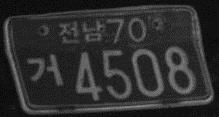0: (131, 46, 165, 98), (127, 16, 147, 44)
4: (73, 51, 103, 103)
5: (101, 48, 132, 100)
7: (105, 16, 124, 44)
8: (163, 45, 197, 96)
거: (26, 53, 63, 88)
전남_O: (57, 18, 105, 44)
